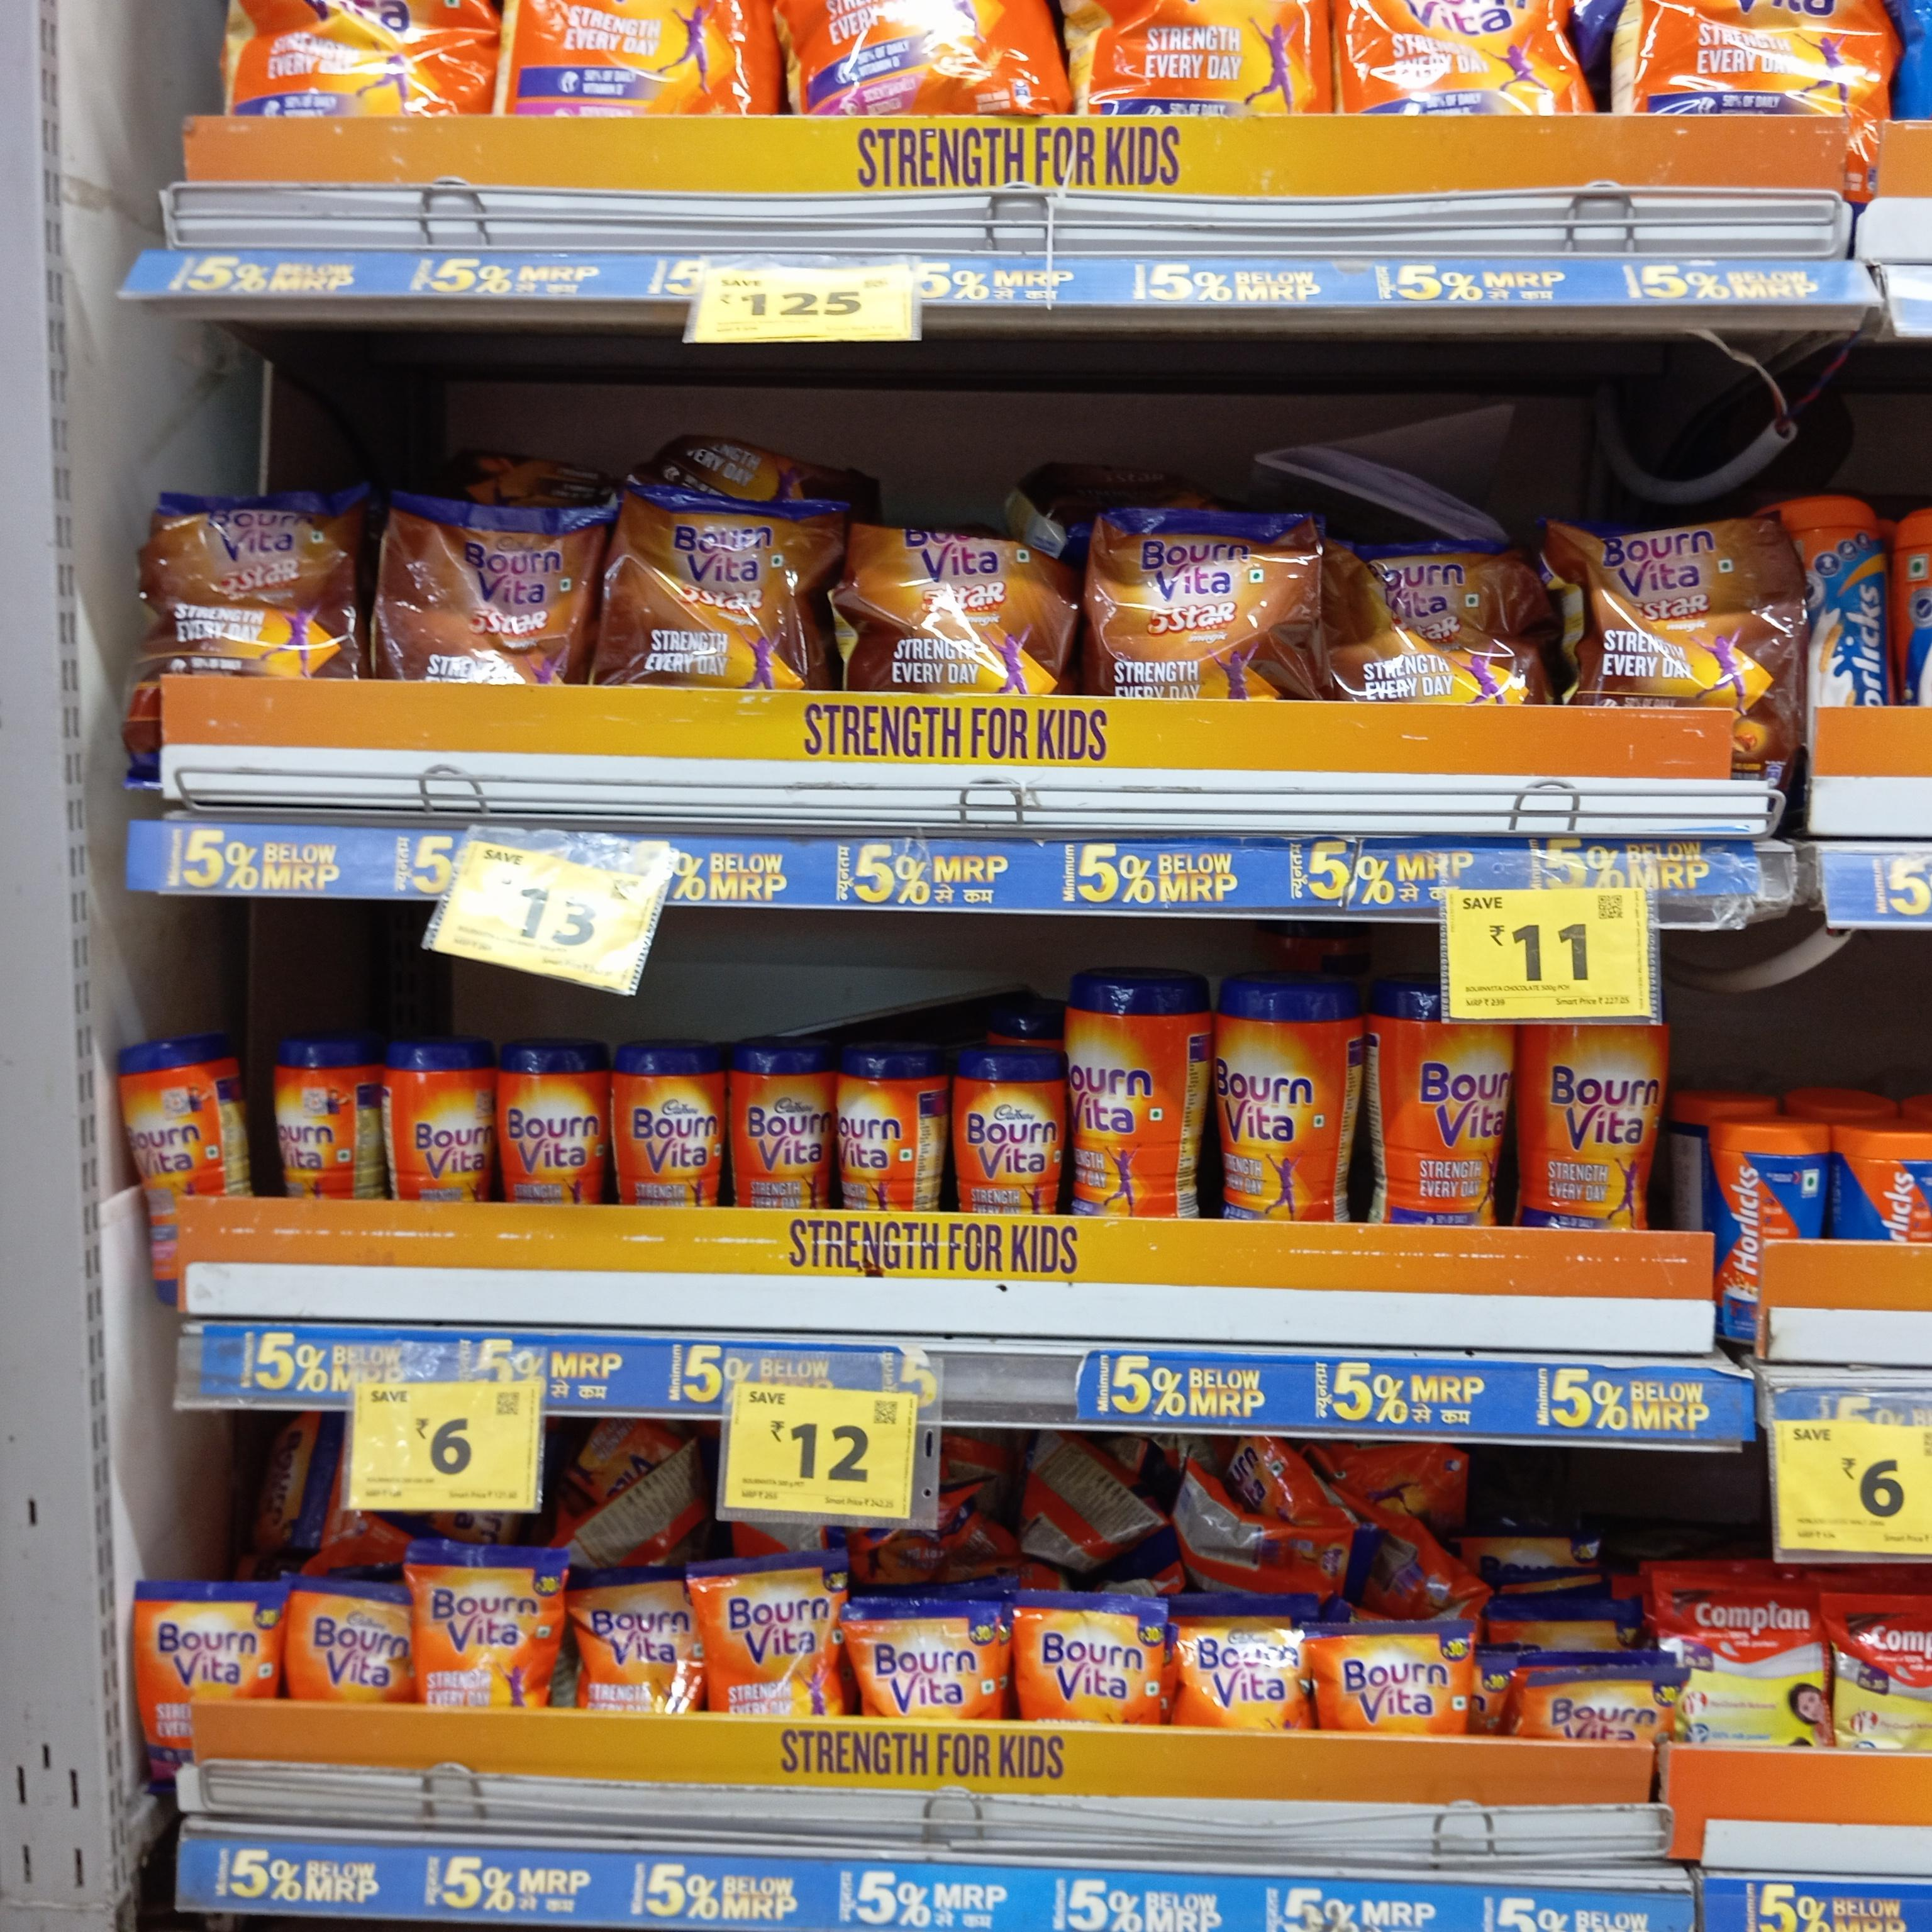BOURN_VITA_200_G_JAR: (122, 1028, 218, 1306), (943, 1044, 1060, 1223), (617, 1040, 724, 1210), (499, 1040, 602, 1205), (391, 1037, 492, 1201), (833, 1037, 922, 1217), (736, 1039, 826, 1208), (274, 1033, 352, 1205)
BOURN_VITA_500_G_JAR: (1210, 964, 1338, 1221), (1067, 961, 1189, 1226), (1373, 982, 1502, 1228), (1522, 1012, 1656, 1238)
BOURN_VITA_75_G_POUCH: (699, 1555, 844, 1721), (405, 1546, 545, 1713), (849, 1592, 1007, 1718), (129, 1587, 262, 1736), (571, 1557, 694, 1716), (1010, 1596, 1164, 1718), (1175, 1605, 1307, 1736), (1320, 1622, 1474, 1730)
BOURN_VITA_FIVE_STAR_MAGIC_500_G_POUCH: (617, 478, 828, 694), (1569, 520, 1787, 725), (134, 487, 357, 674), (382, 487, 587, 686), (1092, 515, 1311, 699), (840, 510, 1051, 697), (1327, 529, 1514, 697)
HORLICK_CLASSIC_MALT_200_G_JAR: (1714, 1115, 1813, 1343), (1836, 1129, 1932, 1238)
